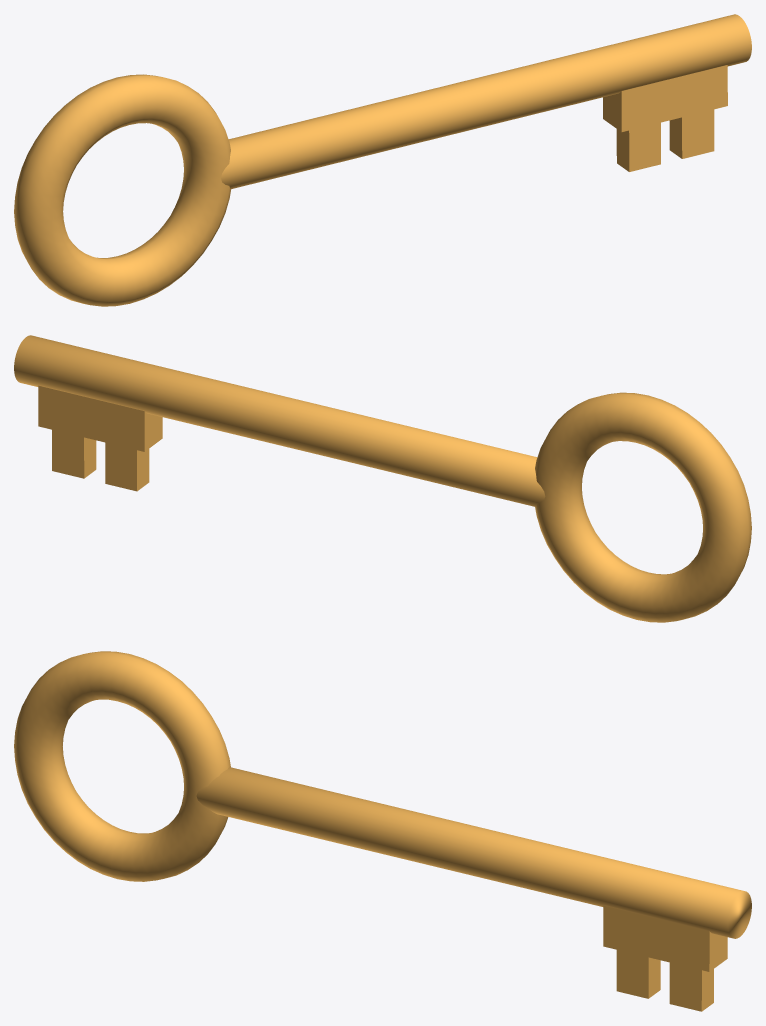
The model's file is Key.glb.
3 renders of one model, top to bottom at view 1: azimuth 30°, elevation 25°; view 2: azimuth 150°, elevation 25°; view 3: azimuth 330°, elevation 25°, orthographic.
Parts seen in each view (by area): view 1: Cube.001_0; view 2: Cube.001_0; view 3: Cube.001_0.
Boxes of the visible parts, x1,y1,x2,y2 form: Cube.001_0: (14, 14, 751, 306); Cube.001_0: (14, 335, 751, 622); Cube.001_0: (14, 651, 751, 1011).
Bounding box in the file's own units: 6.8 × 2 × 0.4381.
